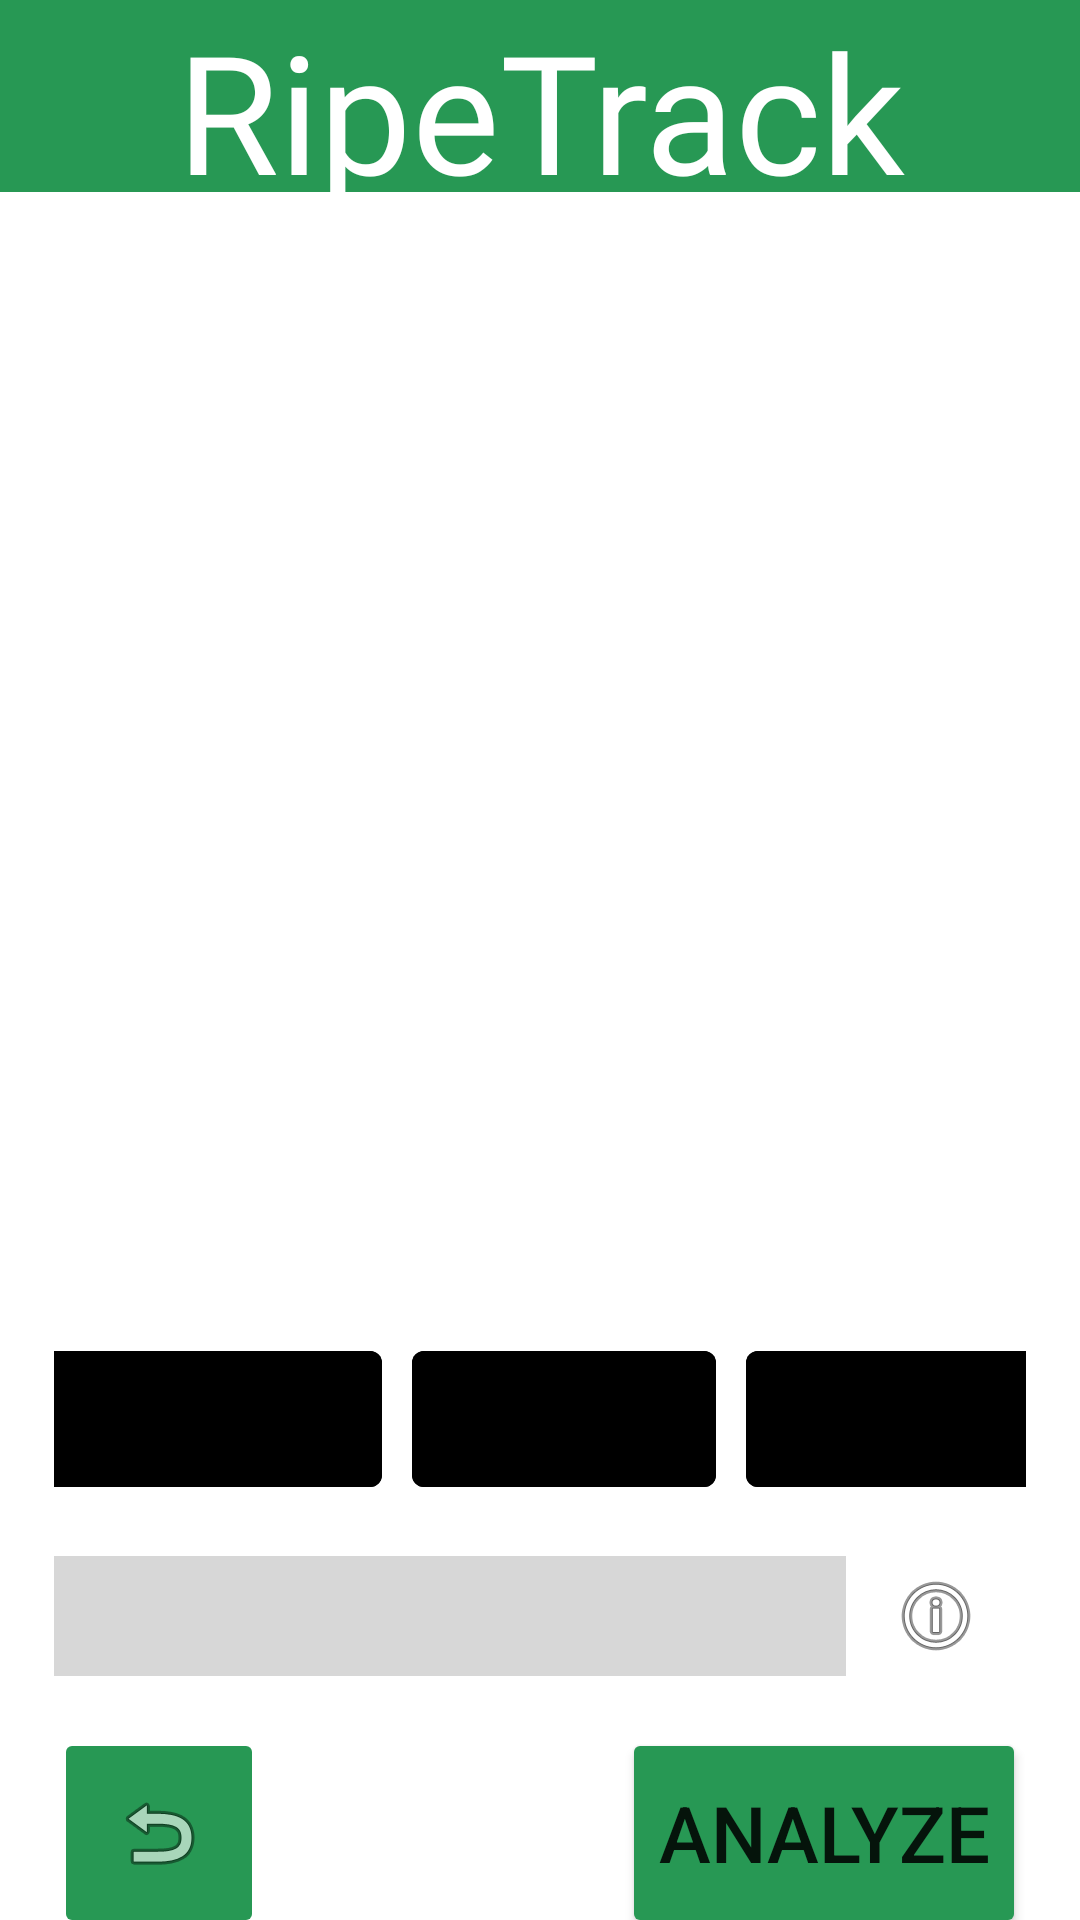

Icons on this 1080*1920 Android screen, each with the point to tap as [x,y]:
Re-capture the images: [159,1833]
Show information regarding the fragment: [936,1616]
